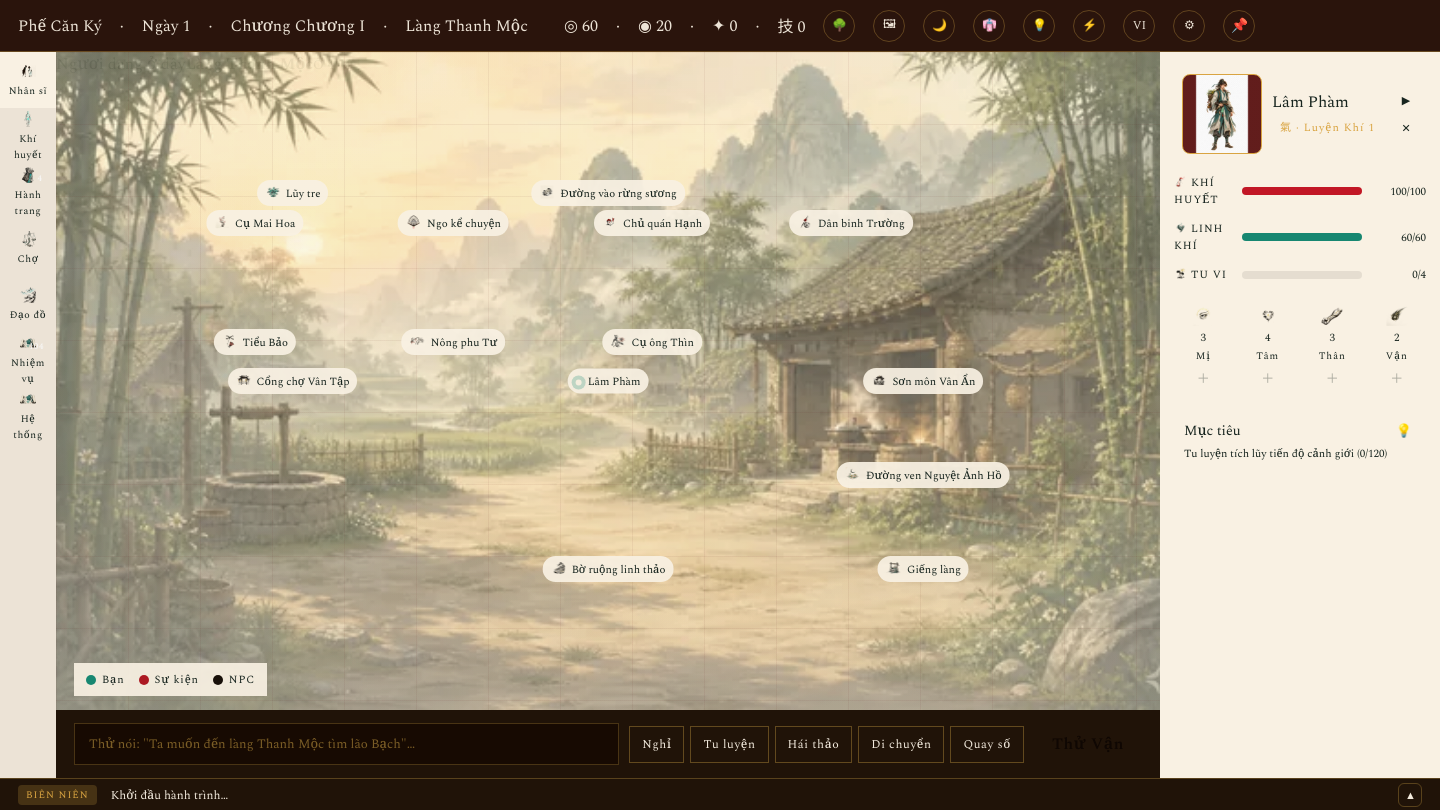
Scenario: C3-17: System Assistant & Session Recap UI (React Component Tests) › ProtoShell objective line has assistant button that opens SessionRecapModal
The width and height of the screenshot is (1440, 810).
Step 1. Click the button with test id "objective-assistant-btn" → (1404, 430), box [1392,420,1416,440]
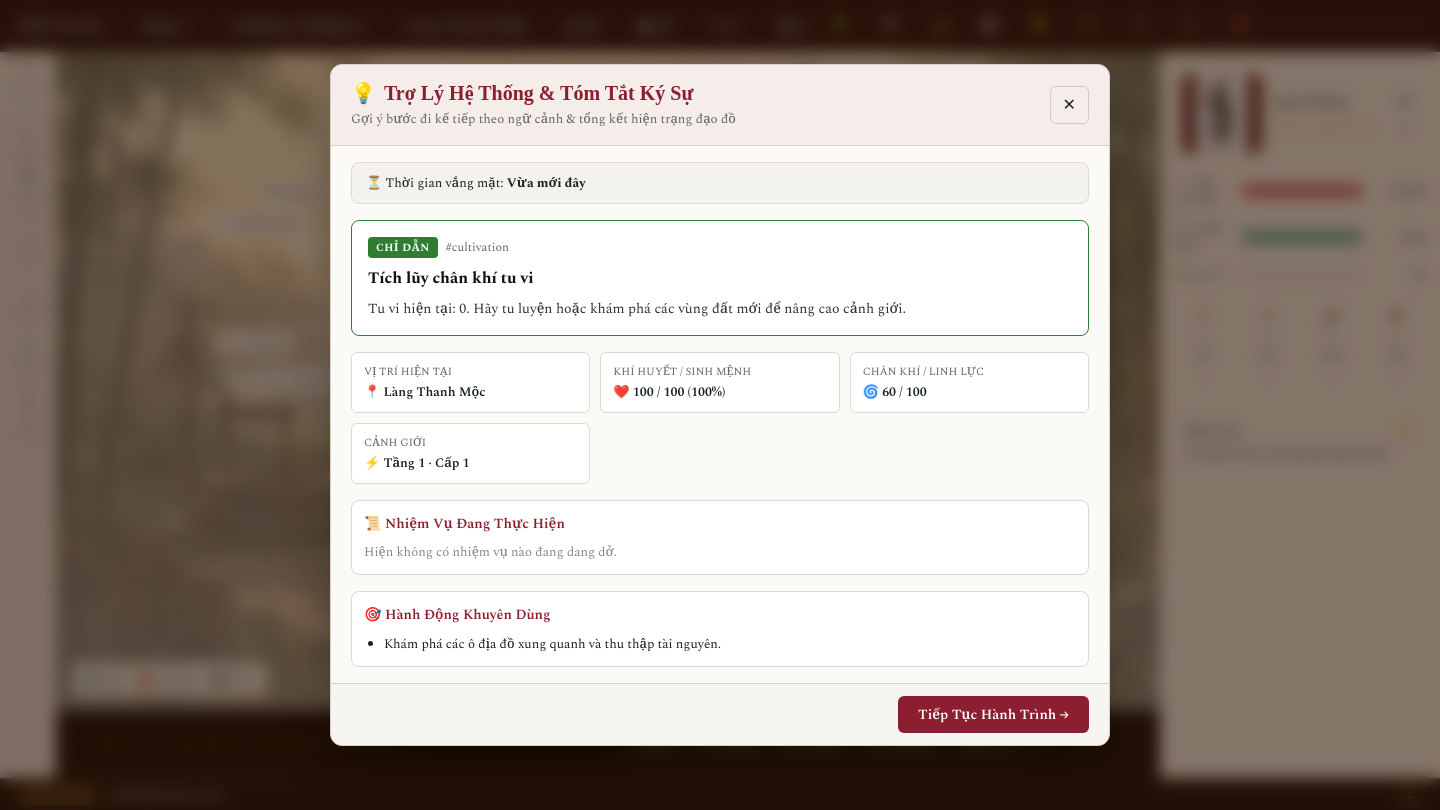
Expected: the dialog named "Trợ Lý Hệ Thống & Tóm Tắt Tu Tiên" is shown, [330,64,1110,746]
